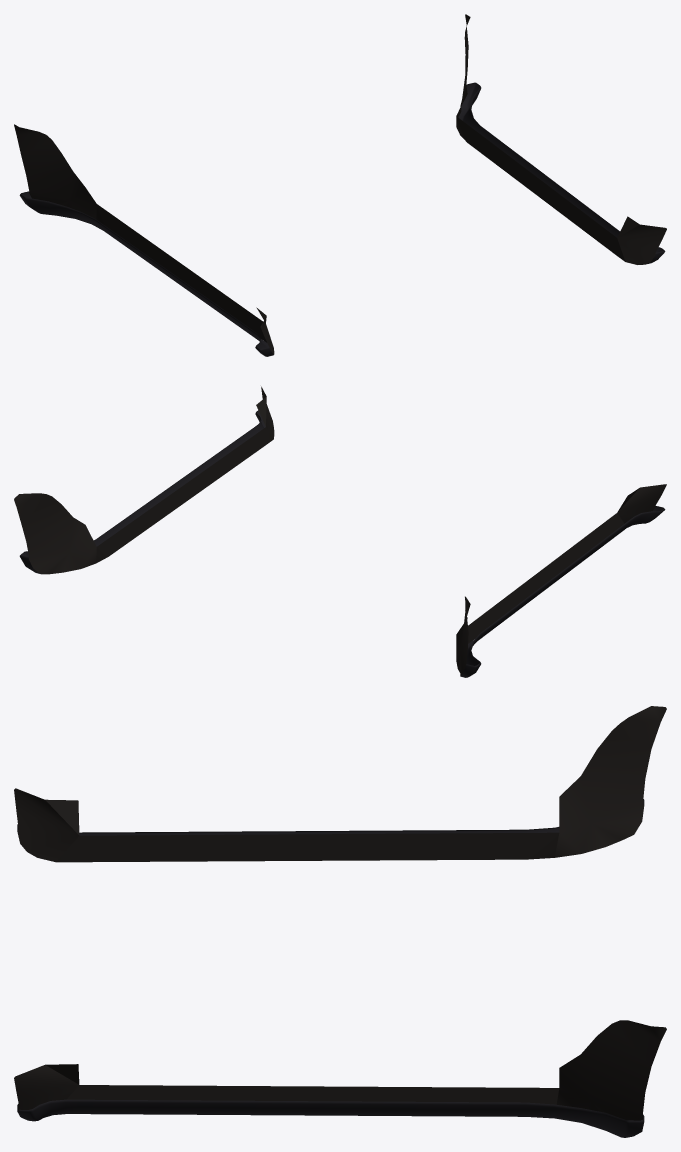
Rendered from RWB_Skirt_02_Trim.fbx.
3 renders of one model, top to bottom at view 1: azimuth 30°, elevation 25°; view 2: azimuth 150°, elevation 25°; view 3: azimuth 270°, elevation 25°, orthographic. The views are drawn at different scales.
Visible parts, largest first — view 1: RWB_Skirt_02_Trim; view 2: RWB_Skirt_02_Trim; view 3: RWB_Skirt_02_Trim.
Part boxes in pixels (x1=…): RWB_Skirt_02_Trim: x1=14, y1=14, x2=666, y2=356; RWB_Skirt_02_Trim: x1=14, y1=386, x2=666, y2=677; RWB_Skirt_02_Trim: x1=14, y1=706, x2=666, y2=1137.
Size of the model in its own units: 183 by 31.79 by 156.
